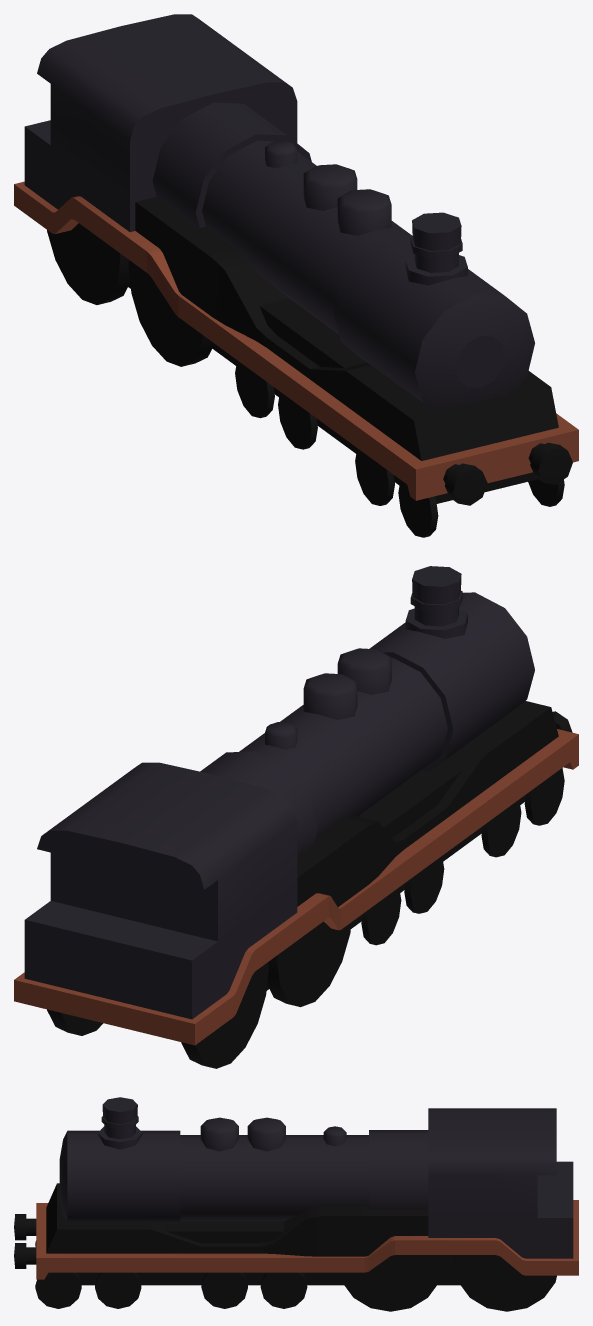
File: mesh_OswiecimLocomotive.fbx
3 views of the same model, one above another, from view 1: azimuth 30°, elevation 25°; view 2: azimuth 150°, elevation 25°; view 3: azimuth 270°, elevation 25° (orthographic). The views are drawn at different scales.
Parts seen in each view (by area): view 1: mesh_OswiecimLocomotive; view 2: mesh_OswiecimLocomotive; view 3: mesh_OswiecimLocomotive.
Part boxes in pixels (x1,y1,x2,y2): mesh_OswiecimLocomotive: (14,14,578,537); mesh_OswiecimLocomotive: (14,566,578,1068); mesh_OswiecimLocomotive: (14,1097,578,1311).
Size of the model in its own units: 145 by 202 by 568.
